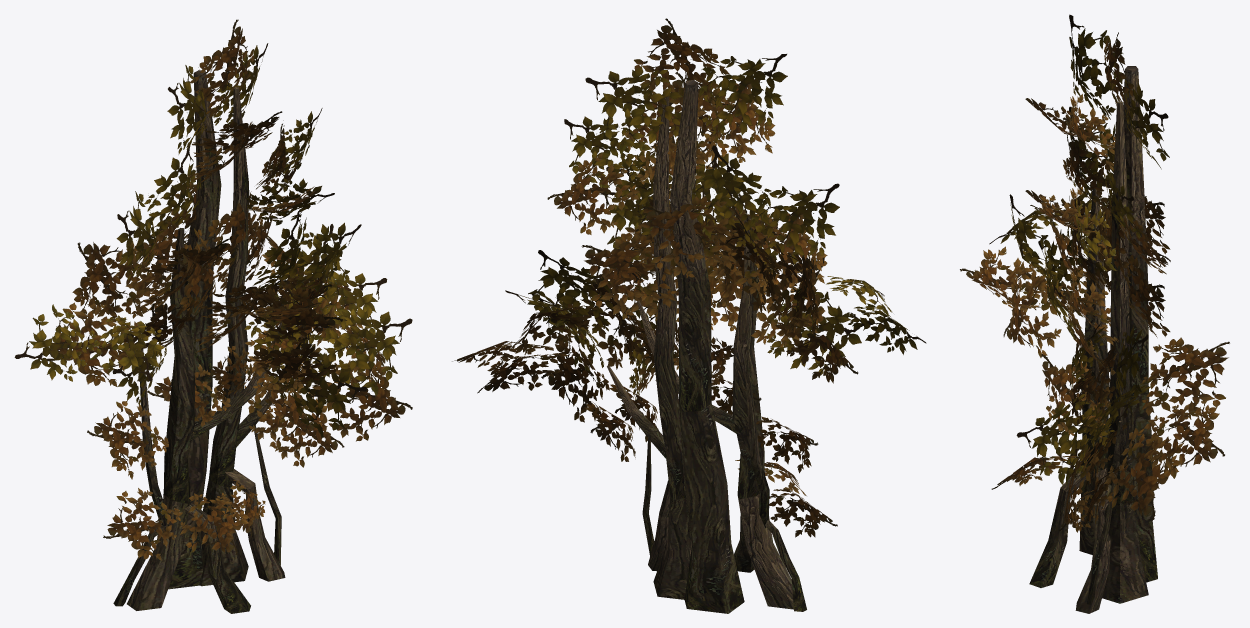
The model's file is 4005_Item_shu_7.FBX.
The picture shows the model from 3 angles, left to right: view 1: azimuth 30°, elevation 25°; view 2: azimuth 150°, elevation 25°; view 3: azimuth 270°, elevation 25°; orthographic projection. The views are drawn at different scales.
Parts seen in each view (by area): view 1: 4005_Item_shu_7; view 2: 4005_Item_shu_7; view 3: 4005_Item_shu_7.
Part boxes in pixels (box(x1,y1,x2,y2)): 4005_Item_shu_7: box(14, 19, 412, 613); 4005_Item_shu_7: box(452, 18, 926, 613); 4005_Item_shu_7: box(960, 14, 1229, 613).
Bounding box in the file's own units: 867 × 1128 × 499.
